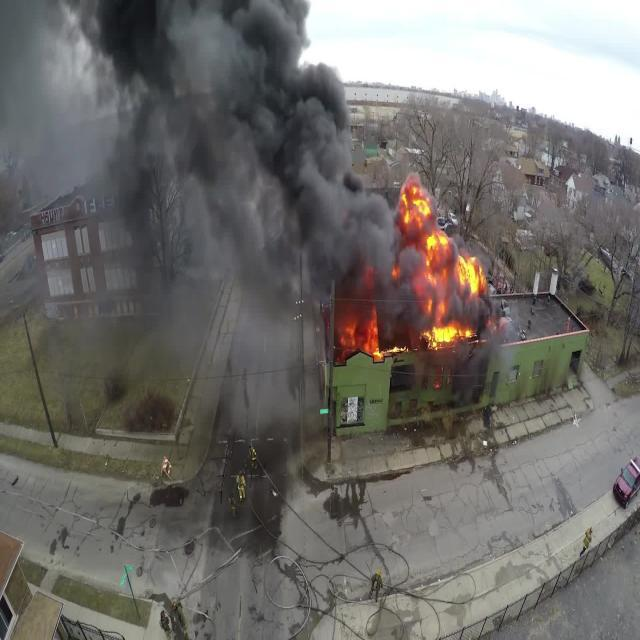Fire: (331, 165, 480, 348)
Smoke: (0, 0, 405, 307)
